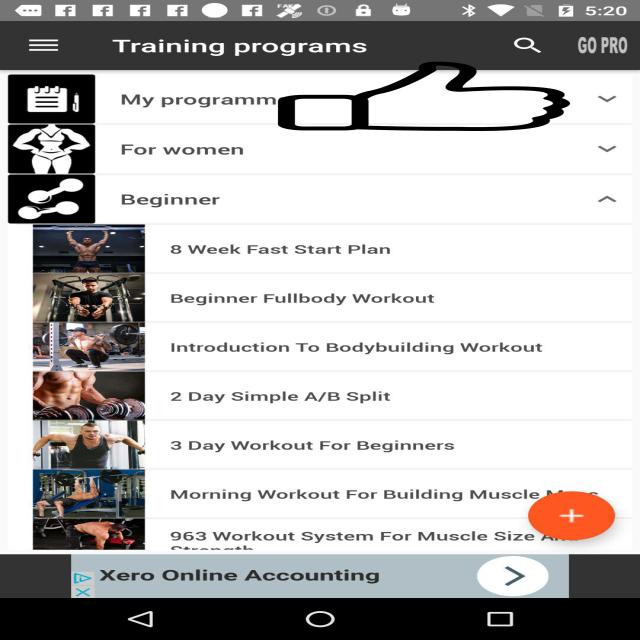privacy zuckering: (274, 62, 574, 131)
